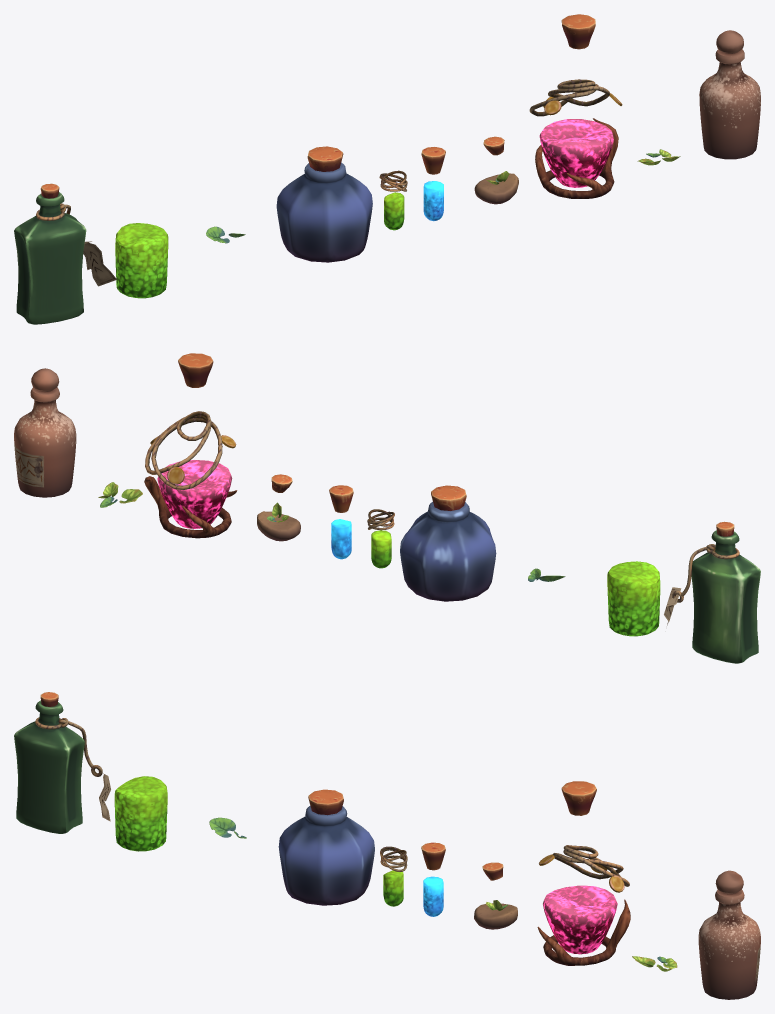
Rendered from MagicPotionUnity 1.fbx.
3 views of the same model, one above another, from view 1: azimuth 30°, elevation 25°; view 2: azimuth 150°, elevation 25°; view 3: azimuth 330°, elevation 25° (orthographic).
Parts seen in each view (by area): view 1: Cylinder.002, Cylinder.001, Cylinder, Circle.004, Circle.001, Cylinder.005, Cylinder.003, Cylinder.004; view 2: Cylinder.001, Cylinder.002, Cylinder, Circle.004, Circle.001, Cylinder.005, Cylinder.003, Cylinder.004, Circle.017; view 3: Cylinder.001, Cylinder.002, Cylinder, Circle.004, Circle.001, Cylinder.003, Cylinder.005, Cylinder.004.
Boxes of the visible parts, box(x1,y1,x2,y2) form: Cylinder.002: box(14, 183, 116, 324); Cylinder.001: box(276, 146, 372, 262); Cylinder: box(529, 14, 622, 198); Circle.004: box(699, 30, 760, 159); Circle.001: box(115, 223, 168, 298); Cylinder.005: box(474, 136, 518, 204); Cylinder.003: box(421, 147, 445, 221); Cylinder.004: box(379, 170, 407, 230); Cylinder.001: box(400, 485, 496, 601); Cylinder.002: box(664, 521, 760, 663); Cylinder: box(144, 353, 237, 538); Circle.004: box(14, 368, 76, 497); Circle.001: box(607, 561, 660, 636); Cylinder.005: box(257, 474, 300, 541); Cylinder.003: box(329, 485, 353, 559); Cylinder.004: box(367, 509, 394, 568); Circle.017: box(98, 482, 142, 507); Cylinder.001: box(278, 789, 374, 905); Cylinder.002: box(14, 692, 110, 833); Cylinder: box(537, 781, 630, 965); Circle.004: box(698, 870, 760, 999); Circle.001: box(114, 776, 167, 851); Cylinder.003: box(421, 842, 445, 916); Cylinder.005: box(474, 862, 517, 929); Cylinder.004: box(380, 846, 407, 906).
Bounding box in the file's own units: 281 × 60.58 × 33.02.
Materials: 2 (2 with a texture image).
